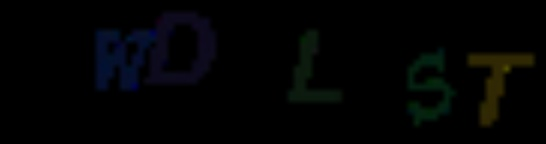D: (147, 6, 225, 88)
L: (286, 25, 346, 106)
S: (404, 46, 459, 126)
T: (464, 46, 539, 130)
W: (91, 28, 160, 92)
